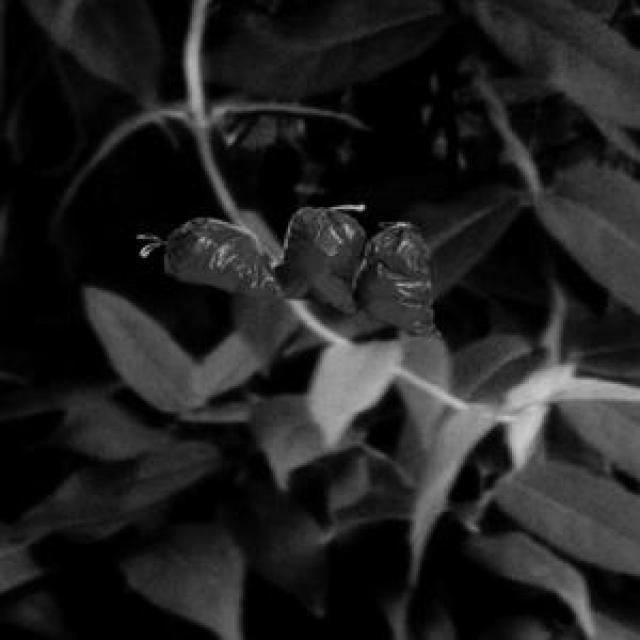miscellaneous trash: (162, 201, 434, 331)
